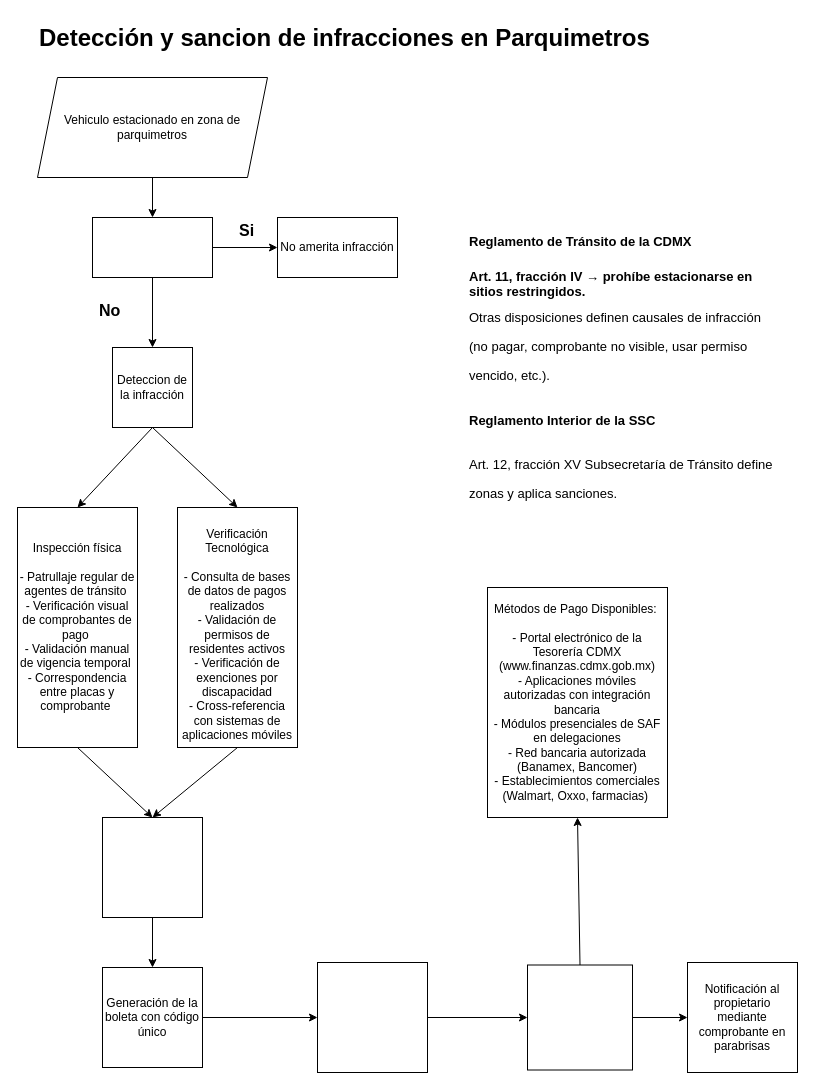
This 815x1090 diagram has some shape labels left out. Each missing label, with the box of its shape:
Colocación del dispositivo inmovilizador ("Araña" o Candado): (316, 962, 428, 1072)
Documentación Fotográfica del vehículo y la infracción: (102, 816, 202, 918)
Emisión de línea de captura para pago de multa: (526, 964, 632, 1070)
¿Realizo el pago correspondiente?: (92, 216, 212, 278)
